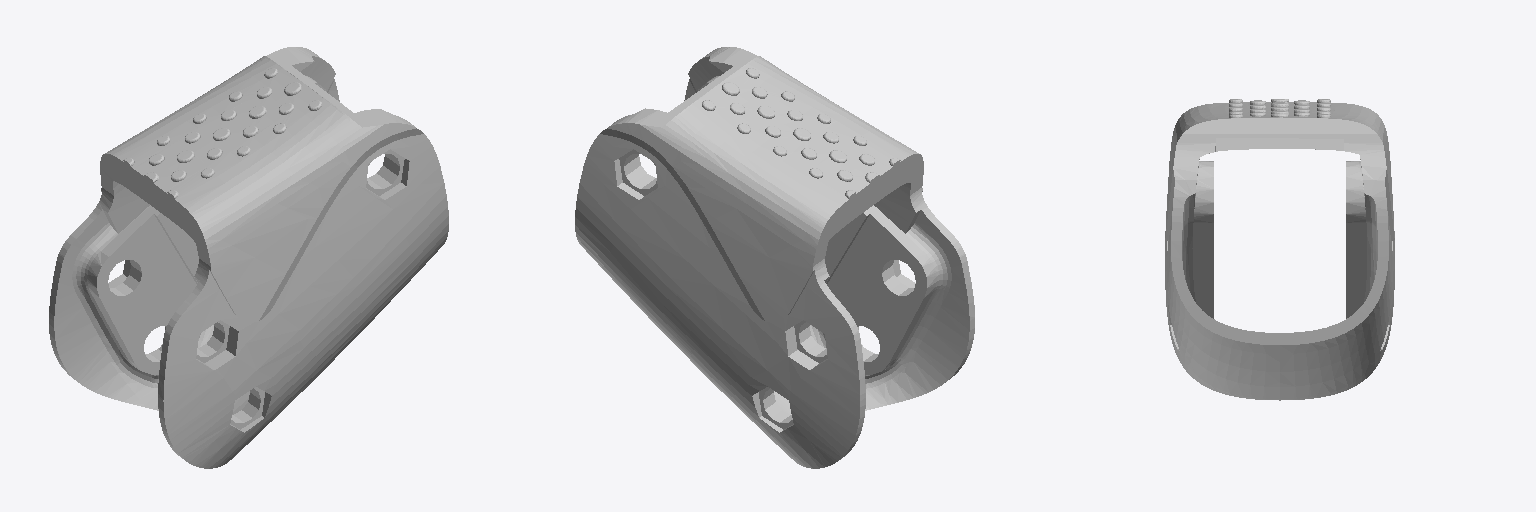
Rendered from right_thumb_3_visuals.obj.
3 renders of one model, left to right at view 1: azimuth 30°, elevation 25°; view 2: azimuth 150°, elevation 25°; view 3: azimuth 270°, elevation 25°, orthographic.
Size of the model in its own units: 0.0314 by 0.0325 by 0.0209.